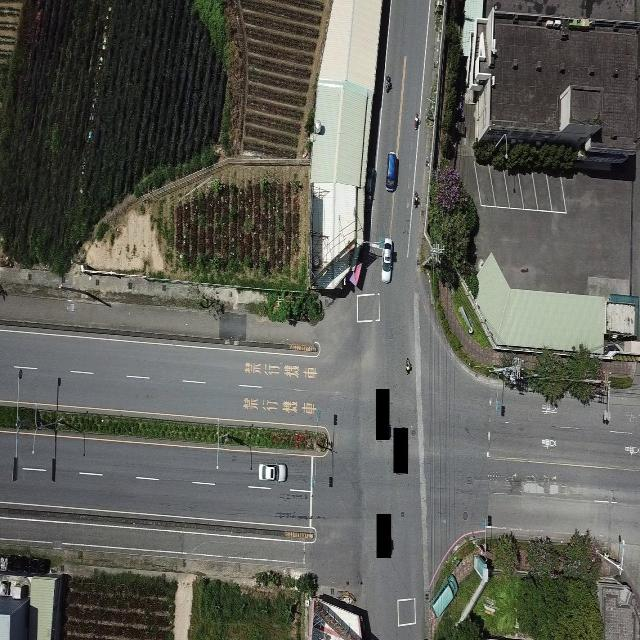bike: (398, 348, 422, 384), (411, 106, 421, 133), (386, 71, 394, 101), (411, 188, 421, 210)
car: (381, 236, 395, 283), (258, 461, 287, 482), (386, 151, 399, 191)
